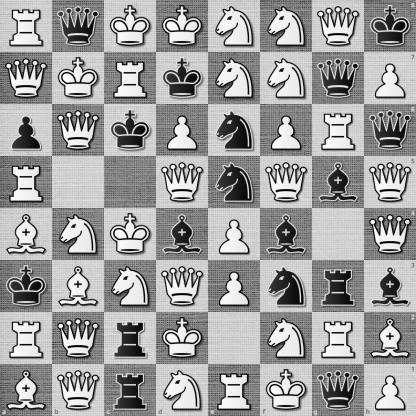B: (0, 364, 52, 416), (364, 312, 416, 364), (1, 209, 52, 260), (53, 261, 104, 312)
K: (260, 364, 312, 416), (53, 53, 104, 104), (105, 1, 156, 52), (105, 209, 156, 260), (157, 1, 208, 52), (157, 313, 208, 364)
N: (156, 364, 209, 416), (53, 209, 104, 260), (105, 261, 156, 312), (209, 1, 260, 52), (209, 53, 260, 104), (261, 1, 312, 52), (261, 53, 312, 104), (261, 313, 312, 364)
P: (364, 52, 416, 104), (364, 364, 416, 416), (157, 105, 208, 156), (209, 209, 260, 260), (209, 261, 260, 312), (261, 105, 312, 156)
Q: (364, 156, 416, 209), (52, 364, 104, 416), (364, 209, 416, 260), (1, 53, 52, 104), (53, 105, 104, 156), (53, 313, 104, 364), (157, 157, 208, 208), (157, 261, 208, 312), (261, 157, 312, 208), (313, 1, 364, 52)
R: (209, 364, 260, 416), (1, 1, 52, 52), (1, 157, 52, 208), (1, 313, 52, 364), (105, 53, 156, 104), (313, 105, 364, 156), (313, 313, 364, 364)
b: (364, 260, 416, 312), (157, 209, 208, 260), (261, 209, 312, 260), (313, 157, 364, 208)
board: (0, 0, 415, 415)
k: (364, 0, 416, 52), (1, 261, 52, 312), (105, 105, 156, 156), (157, 53, 208, 104)
n: (209, 105, 260, 156), (209, 157, 260, 208), (261, 261, 312, 312)
p: (1, 105, 52, 156)
q: (312, 364, 364, 416), (364, 104, 416, 156), (53, 1, 104, 52), (313, 53, 364, 104)
r: (104, 364, 156, 416), (105, 313, 156, 364), (313, 261, 364, 312)
